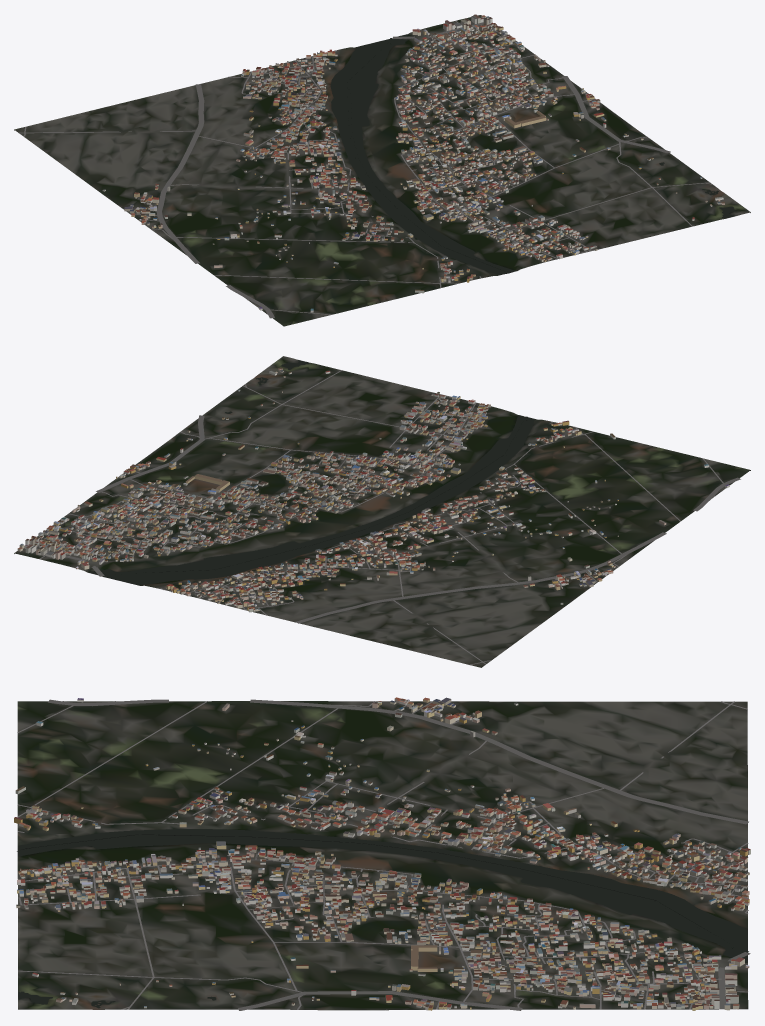
The picture shows the model from 3 angles, top to bottom: view 1: azimuth 30°, elevation 25°; view 2: azimuth 150°, elevation 25°; view 3: azimuth 270°, elevation 25°; orthographic projection. The views are drawn at different scales.
Visible parts, largest first — view 1: ground, buildings, water, roads; view 2: ground, buildings, water, roads; view 3: ground, buildings, water, roads.
Boxes of the visible parts, bbox=[...] form: ground: bbox=[14, 15, 750, 326]; buildings: bbox=[102, 14, 724, 312]; water: bbox=[330, 34, 735, 274]; roads: bbox=[19, 20, 712, 318]; ground: bbox=[14, 356, 750, 667]; buildings: bbox=[17, 367, 729, 612]; water: bbox=[88, 360, 534, 584]; roads: bbox=[24, 370, 740, 664]; ground: bbox=[17, 701, 748, 1010]; buildings: bbox=[14, 697, 750, 1010]; water: bbox=[17, 829, 748, 1008]; roads: bbox=[17, 699, 750, 1010].
Size of the model in its own units: 1416 by 28.55 by 1415.
